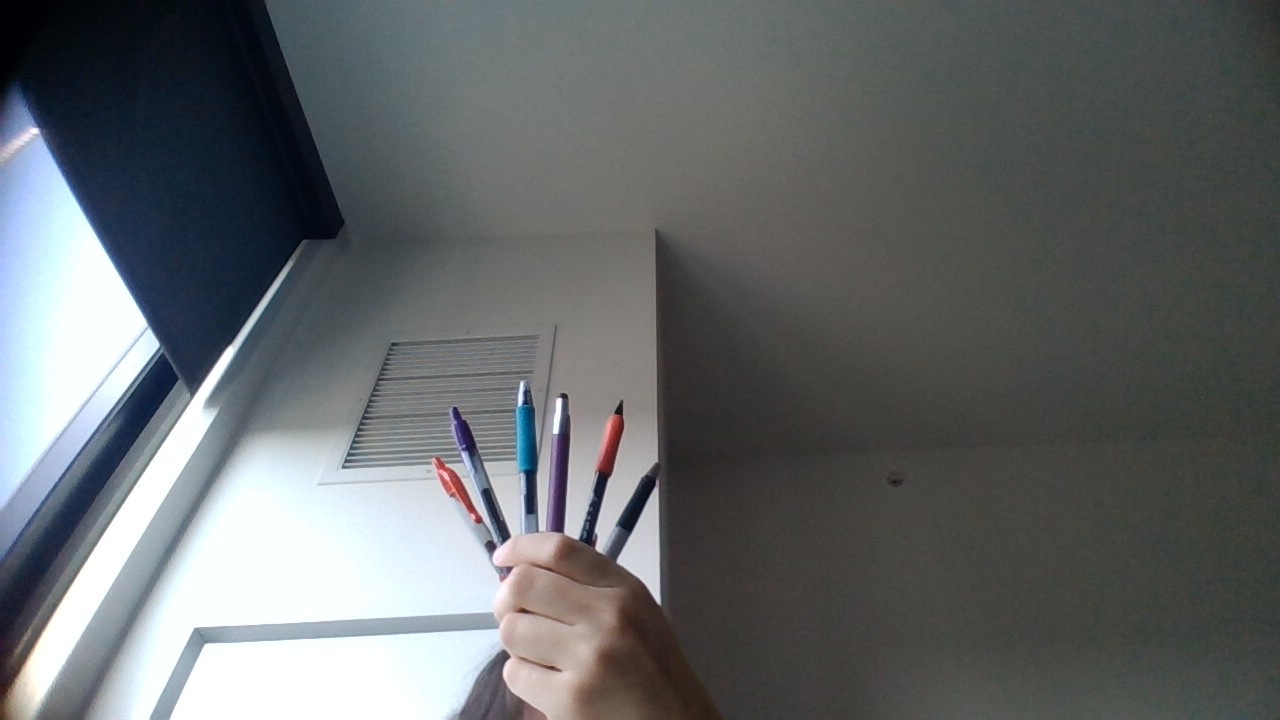Blue Pen: (516, 379, 540, 532)
Cypres Pen Purple: (543, 394, 573, 532)
Purple Pen: (448, 405, 510, 540)
Red Pen: (431, 457, 513, 588), (581, 397, 625, 549)
Silver Pen: (602, 461, 660, 565)
